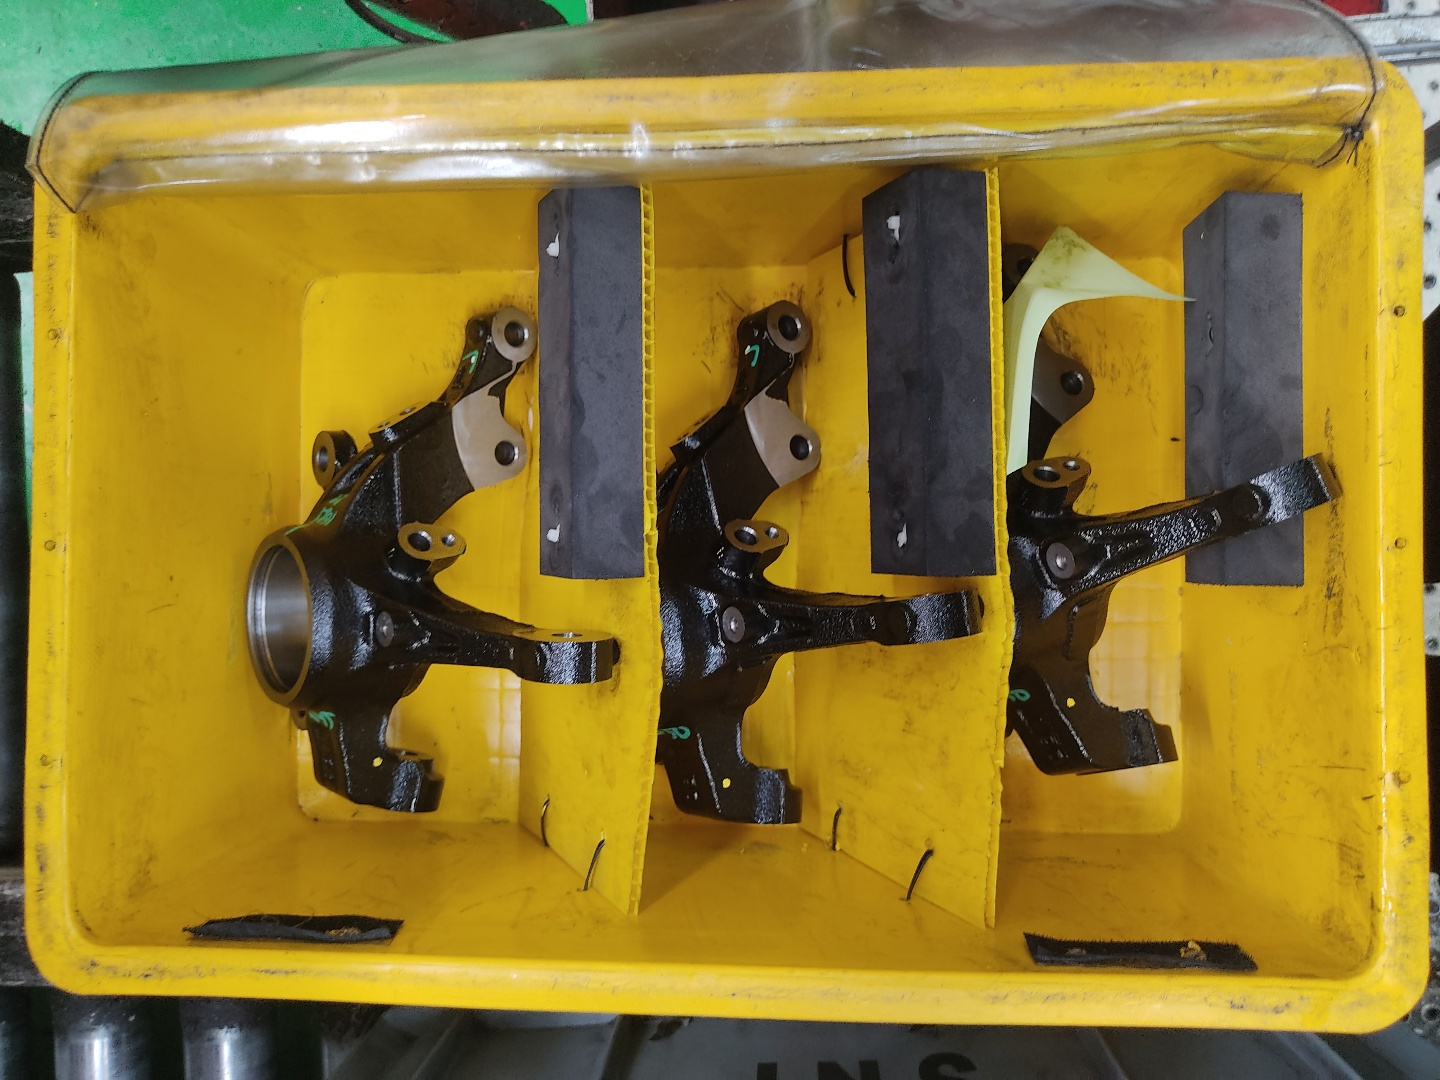abs-lh: (229, 299, 632, 828), (992, 233, 1344, 785), (647, 296, 994, 836)
